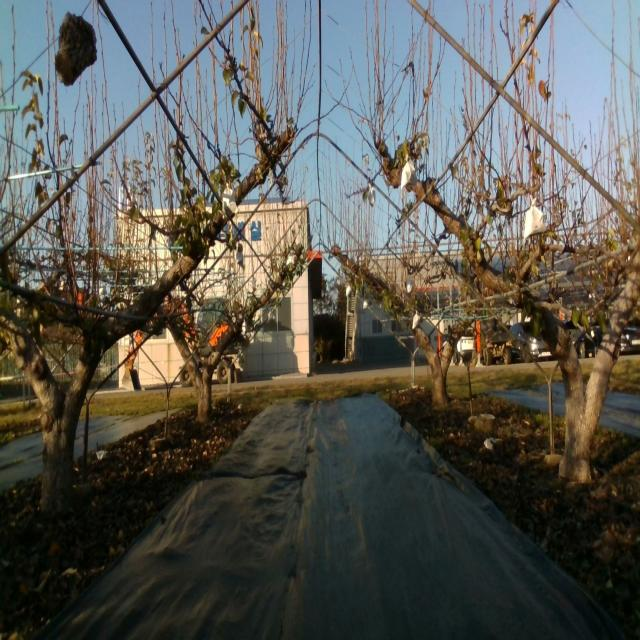pearbags: (523, 197, 546, 241), (401, 154, 418, 189), (222, 182, 237, 218), (196, 309, 208, 329)
